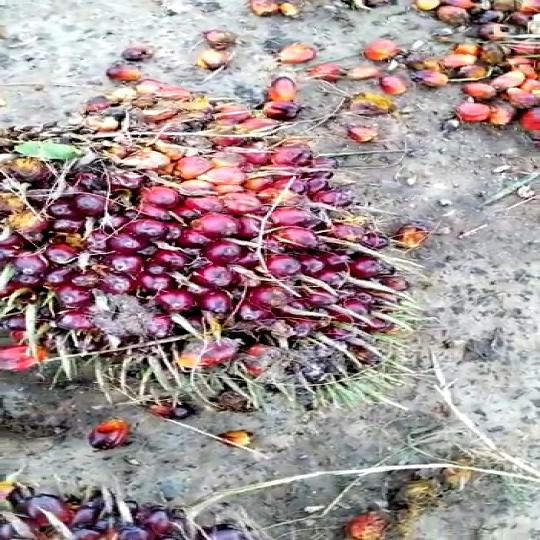masak: (0, 97, 463, 449)
